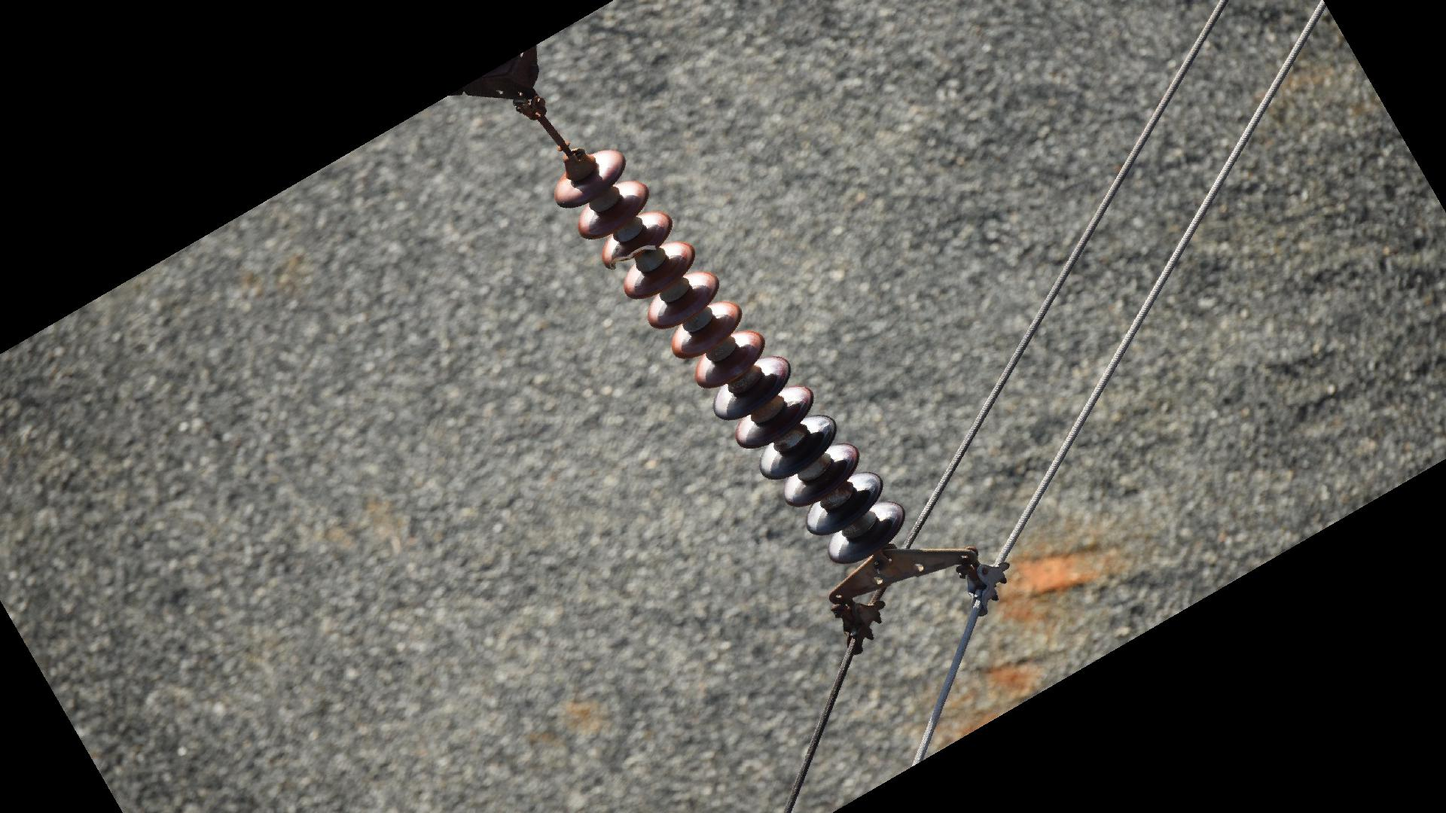insulator: (548, 146, 910, 568)
insulator_breakage: (604, 240, 660, 273)
